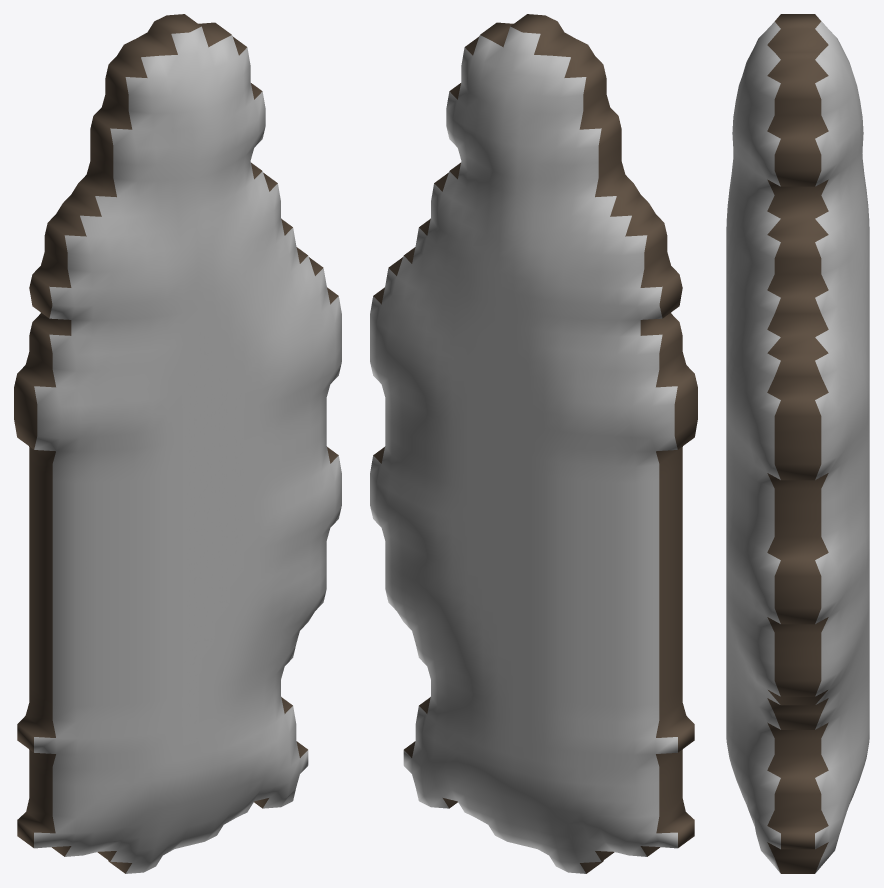
The model's file is saint_defaced.glb.
3 views of the same model, side by side, from view 1: azimuth 30°, elevation 25°; view 2: azimuth 150°, elevation 25°; view 3: azimuth 270°, elevation 25° (orthographic).
Visible parts, largest first — view 1: saint_defaced; view 2: saint_defaced; view 3: saint_defaced.
Part boxes in pixels (x1,y1,x2,y2): saint_defaced: (14, 14, 341, 873); saint_defaced: (370, 14, 697, 873); saint_defaced: (726, 14, 869, 873).
Bounding box in the file's own units: 0.6154 × 1.6 × 0.2501.
